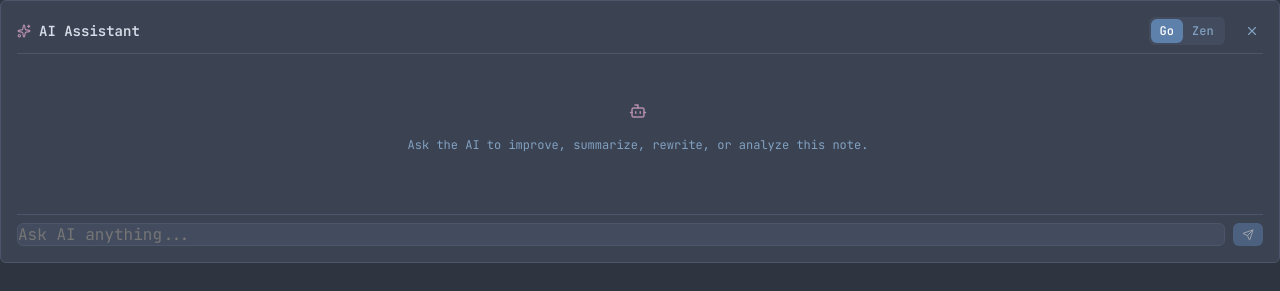
Test case: AIAssistantPanel › Enter key submits message
The image size is (1280, 291).
Type "Enter submit test" into the field with placeholder "Ask AI anything..." at (621, 235), box [17,223,1225,246]
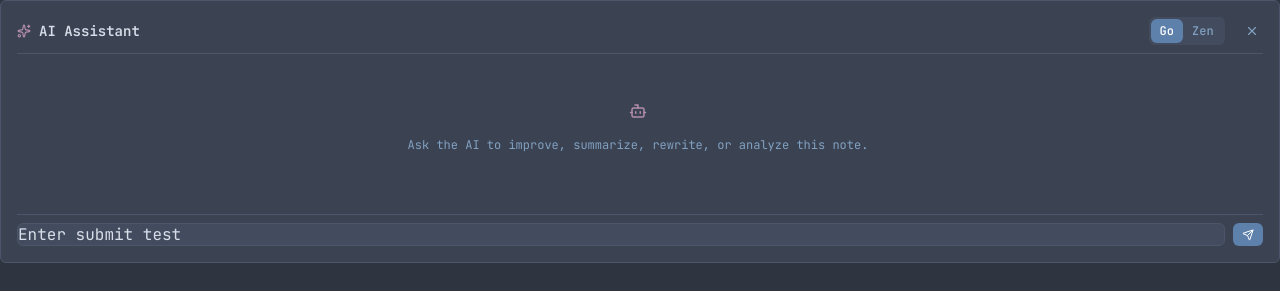
Press Enter in the field with placeholder "Ask AI anything...", box [17,223,1225,246]
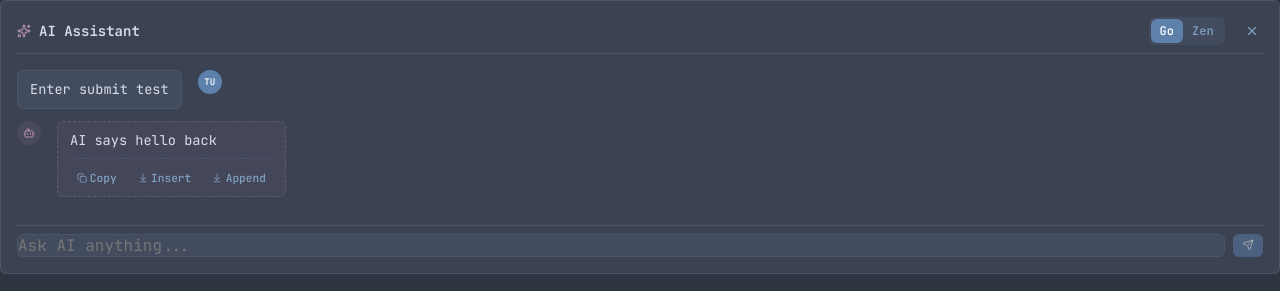
Result: the text "Enter submit test" is shown at [17,70,182,109]
